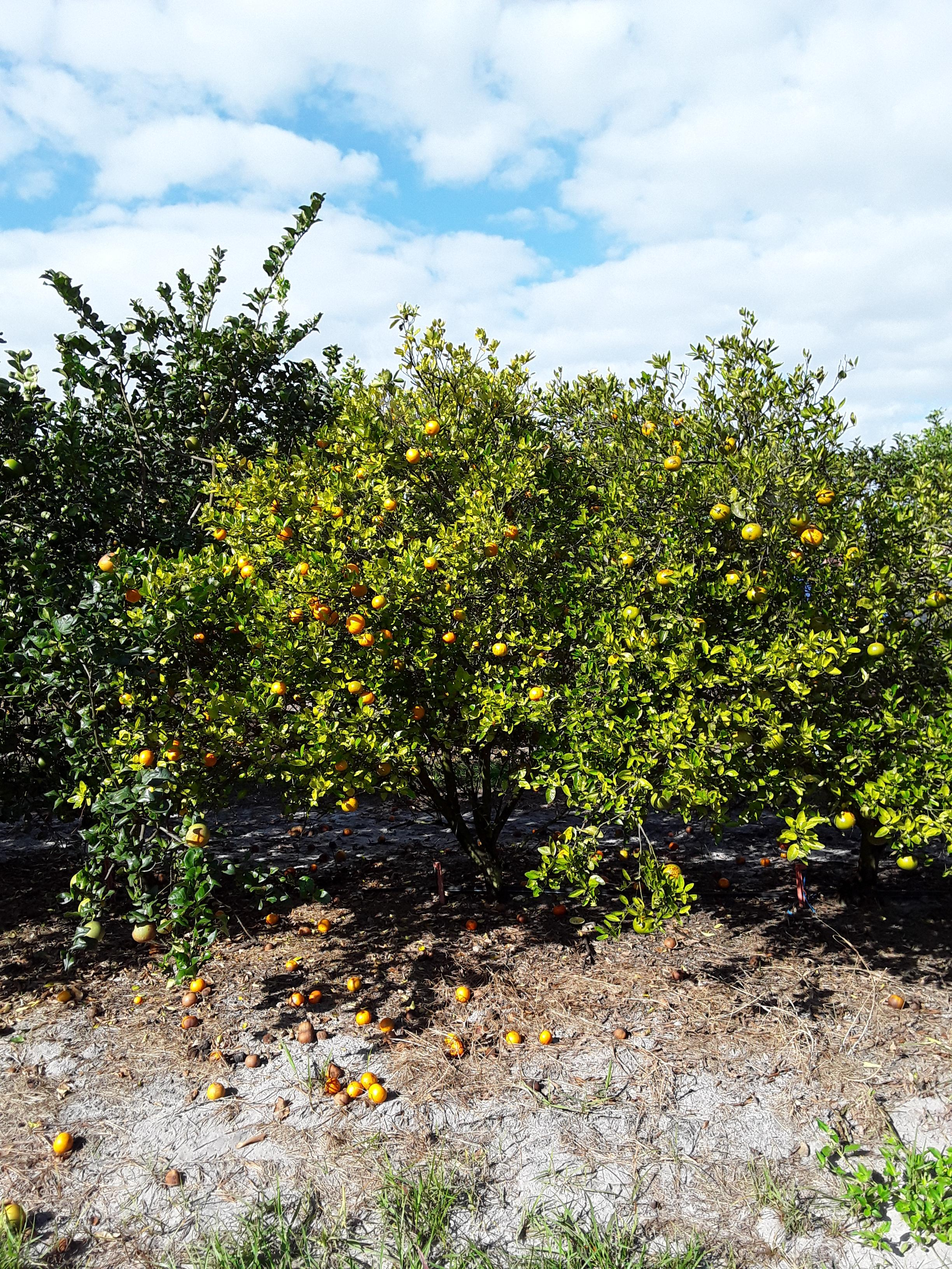fruit_on_ground: (757, 723, 792, 754), (748, 683, 779, 710), (723, 723, 755, 749), (129, 917, 158, 944), (681, 610, 708, 639), (73, 893, 104, 917), (371, 622, 398, 649), (78, 916, 104, 944), (65, 869, 95, 893), (342, 610, 367, 638), (740, 517, 764, 546), (93, 550, 122, 574), (184, 822, 210, 848), (715, 433, 741, 459), (152, 911, 179, 936), (840, 540, 865, 567), (894, 847, 919, 874), (745, 583, 770, 609), (723, 566, 748, 591), (122, 585, 149, 608), (800, 525, 825, 549), (786, 508, 812, 531), (812, 486, 838, 509), (660, 862, 683, 888), (614, 548, 641, 570), (655, 564, 679, 587), (709, 502, 733, 525), (833, 809, 856, 833), (647, 787, 671, 810), (632, 910, 654, 935), (923, 589, 949, 609), (338, 560, 361, 582), (33, 750, 55, 773), (338, 794, 362, 815), (622, 601, 646, 622), (354, 630, 376, 652), (480, 538, 501, 560), (159, 745, 182, 765), (346, 581, 370, 600), (261, 494, 282, 515), (865, 638, 885, 660), (275, 523, 294, 546), (369, 589, 388, 612), (605, 404, 625, 425), (639, 418, 659, 438), (2, 457, 22, 477), (44, 528, 64, 548), (660, 453, 681, 472), (195, 388, 214, 409), (192, 707, 214, 725), (667, 409, 686, 429), (450, 604, 471, 622), (180, 434, 201, 452), (491, 639, 510, 658), (322, 610, 342, 628), (329, 456, 347, 476), (313, 599, 329, 621), (408, 702, 426, 721), (115, 690, 134, 708), (327, 503, 347, 520), (784, 549, 806, 564), (502, 523, 520, 541), (286, 606, 304, 624), (376, 759, 393, 778), (168, 735, 185, 754), (293, 560, 312, 577), (404, 447, 421, 466), (152, 496, 172, 512), (269, 680, 287, 697), (422, 554, 440, 571), (333, 755, 349, 774), (440, 628, 459, 644), (380, 496, 399, 512), (353, 464, 370, 481), (314, 433, 332, 449), (423, 420, 442, 435), (346, 679, 363, 695), (667, 439, 685, 454), (138, 750, 154, 766), (203, 751, 219, 767), (528, 686, 544, 702), (371, 513, 387, 529), (359, 689, 376, 704), (239, 565, 256, 580), (189, 630, 207, 644), (214, 526, 228, 544), (616, 847, 631, 863), (236, 554, 252, 569), (420, 447, 435, 461), (469, 637, 482, 651), (291, 691, 302, 703)
fruit_on_tree: (2, 1203, 27, 1236), (357, 1066, 381, 1093), (52, 1131, 75, 1157), (452, 982, 475, 1006), (186, 974, 210, 996), (440, 1027, 462, 1051), (366, 1081, 387, 1106), (294, 1027, 318, 1047), (323, 1059, 344, 1081), (446, 1037, 468, 1058), (549, 897, 569, 920), (885, 992, 905, 1015), (344, 973, 364, 993), (306, 986, 324, 1008), (206, 1082, 225, 1102), (536, 1026, 554, 1047), (179, 990, 198, 1009), (178, 1010, 198, 1028), (324, 1076, 342, 1096), (378, 1014, 396, 1034), (261, 910, 281, 928), (293, 1018, 316, 1033), (315, 916, 334, 934), (504, 1027, 521, 1047), (332, 843, 348, 864), (287, 989, 305, 1007), (354, 1007, 371, 1026), (348, 1078, 364, 1098), (514, 910, 530, 928), (716, 875, 732, 893), (612, 1026, 628, 1042), (296, 922, 312, 938), (283, 958, 300, 973), (663, 934, 678, 951), (333, 1091, 350, 1106), (665, 839, 681, 854), (464, 916, 478, 933), (55, 989, 72, 1003), (282, 866, 299, 879), (340, 825, 355, 839), (383, 813, 397, 827), (735, 853, 749, 867), (759, 855, 773, 869), (246, 1055, 261, 1068), (374, 833, 389, 845), (672, 966, 684, 981), (248, 842, 261, 855), (317, 822, 331, 834), (87, 1006, 99, 1018), (551, 830, 563, 842), (198, 1040, 211, 1051), (307, 862, 320, 873), (133, 993, 143, 1006), (214, 909, 227, 919), (778, 849, 788, 860), (306, 843, 317, 853), (320, 852, 330, 862), (519, 879, 530, 888), (512, 829, 523, 838), (685, 826, 694, 835), (531, 827, 539, 835)
